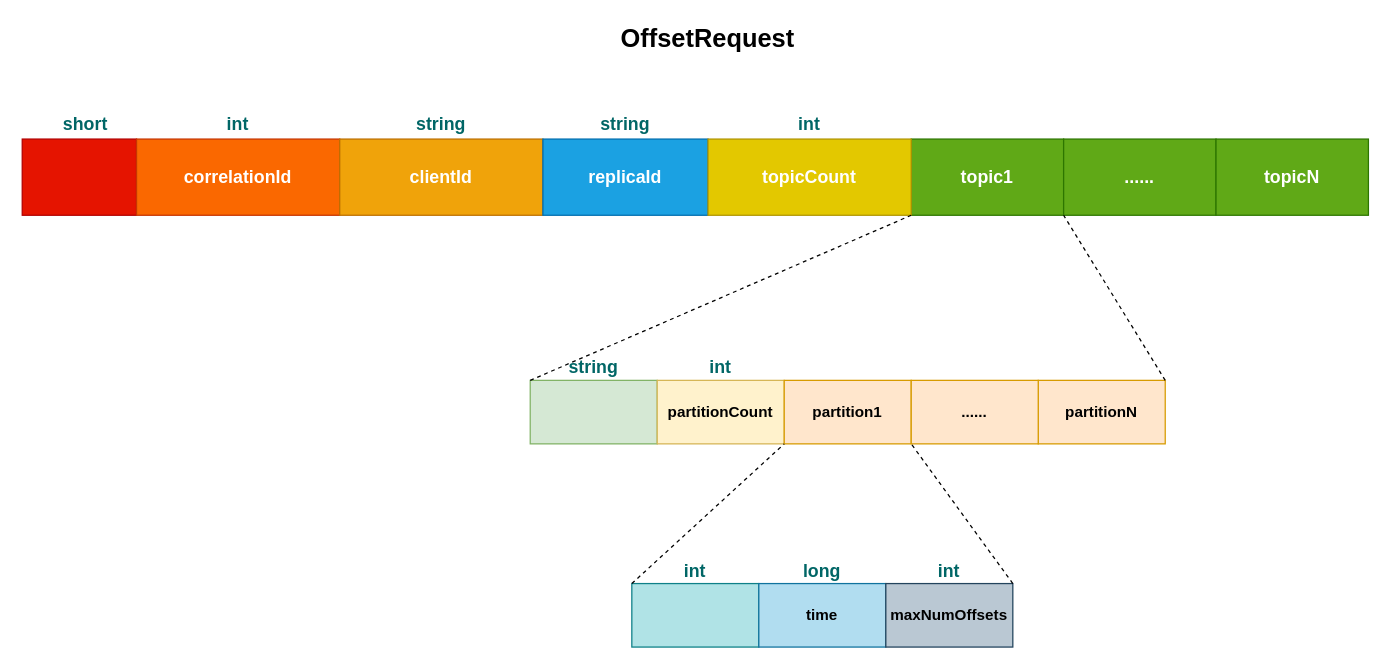
The diagram is 1391 pixels wide and 669 high, and some of its shapes have lost their labels. Here are the shapes that lost their labels. From the top down, the box of each, then its label:
(21, 138, 137, 215): versionId
(529, 379, 657, 444): topicName
(631, 582, 759, 647): partitionId
